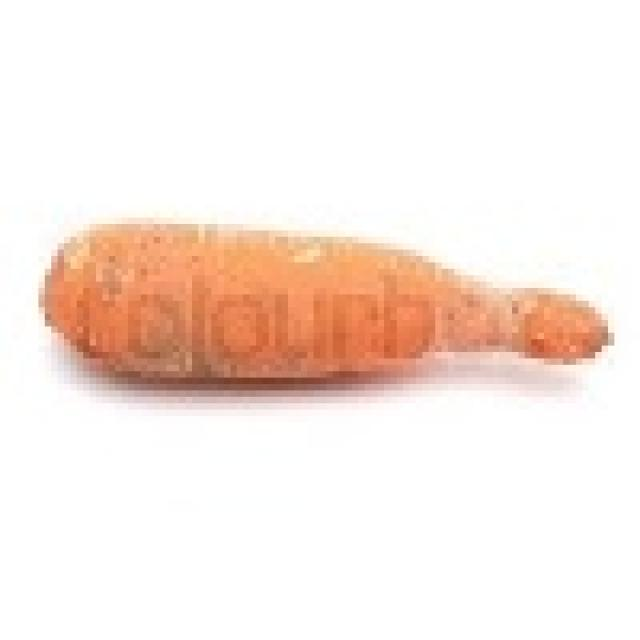Stale_Carrot: (40, 220, 620, 390)
